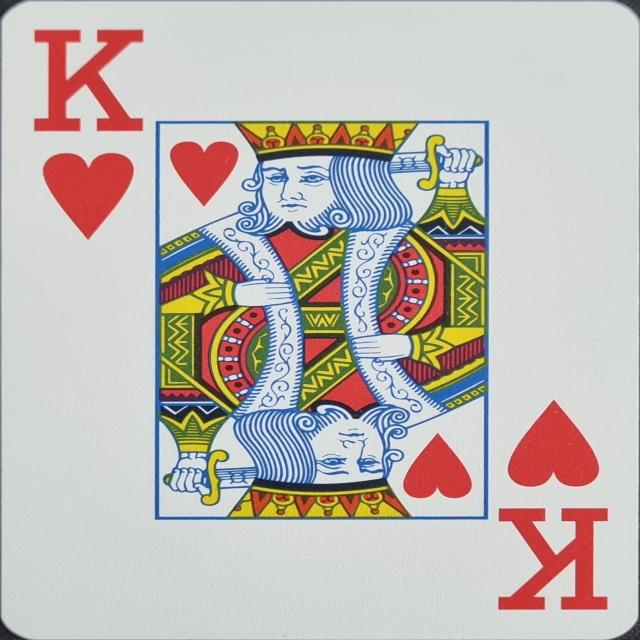Kh: (495, 398, 613, 613), (31, 24, 146, 240)
